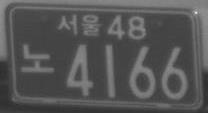1: (98, 43, 123, 99)
4: (64, 43, 95, 96), (106, 13, 126, 41)
6: (159, 44, 190, 102), (127, 44, 158, 100)
8: (126, 13, 147, 40)
노: (19, 42, 55, 75)
서울_O: (55, 13, 103, 38)
